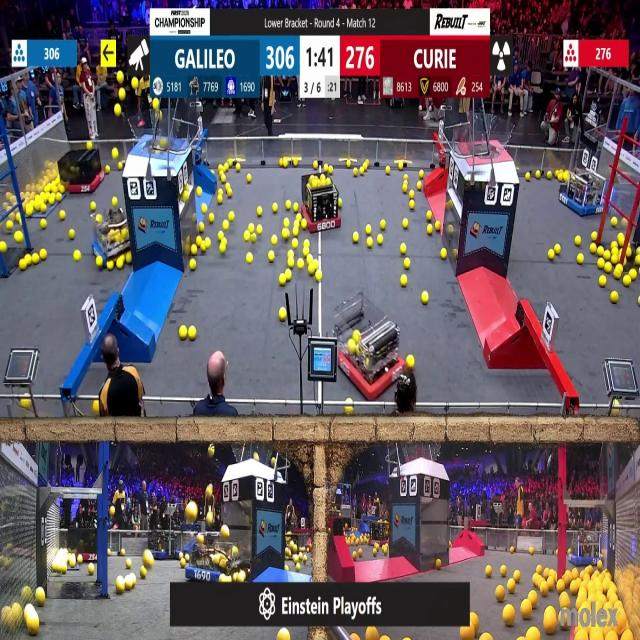ball_airborne: (186, 503, 197, 521), (460, 626, 470, 639), (206, 485, 214, 499), (206, 514, 214, 527), (220, 526, 228, 538), (132, 77, 140, 88), (114, 104, 121, 116), (116, 72, 123, 84), (161, 138, 168, 149), (152, 99, 158, 111), (118, 90, 124, 102), (198, 533, 205, 543), (209, 447, 215, 458), (110, 506, 116, 516), (88, 142, 94, 151), (159, 112, 165, 119)
ball_ground: (543, 612, 555, 637), (502, 605, 514, 626), (28, 616, 40, 636), (522, 602, 532, 619), (36, 589, 45, 607), (470, 614, 480, 630), (496, 586, 505, 602), (119, 578, 128, 594), (144, 553, 154, 567), (560, 594, 569, 609), (527, 629, 539, 640), (126, 580, 136, 592), (236, 570, 246, 582), (529, 592, 538, 605), (279, 308, 287, 322), (278, 630, 290, 639), (93, 399, 100, 414), (408, 355, 416, 368), (187, 326, 195, 339), (506, 581, 514, 594), (22, 397, 31, 408), (594, 260, 602, 272), (604, 262, 612, 274), (614, 268, 622, 280), (180, 326, 187, 339), (18, 261, 26, 272), (14, 233, 22, 244), (115, 260, 123, 271), (515, 569, 522, 581), (619, 235, 626, 247), (282, 230, 290, 240), (630, 270, 638, 280), (598, 248, 606, 258), (599, 276, 606, 287), (610, 291, 617, 302), (219, 243, 226, 254), (269, 251, 276, 262), (96, 256, 103, 267), (624, 276, 631, 287), (188, 261, 195, 272), (74, 250, 81, 261), (126, 253, 133, 264), (499, 565, 506, 576), (140, 566, 147, 577), (27, 206, 34, 217), (422, 291, 428, 303), (400, 275, 406, 287), (442, 248, 448, 260), (403, 259, 409, 271), (285, 270, 291, 282), (346, 408, 354, 417), (0, 242, 6, 254), (218, 573, 226, 582), (556, 172, 564, 181), (246, 252, 253, 262), (279, 276, 286, 286), (189, 246, 196, 256), (32, 254, 39, 264), (590, 244, 597, 254), (302, 219, 309, 229), (111, 148, 118, 158), (285, 201, 292, 211), (69, 557, 76, 567), (26, 255, 33, 265), (316, 271, 322, 282), (435, 559, 441, 570), (400, 244, 406, 255), (40, 249, 46, 260), (353, 233, 359, 244), (309, 266, 315, 277), (292, 227, 298, 238), (244, 233, 251, 242), (205, 239, 212, 248), (577, 254, 583, 264), (381, 220, 387, 230), (292, 239, 298, 249), (255, 224, 261, 234), (366, 238, 372, 248), (402, 218, 408, 228), (556, 245, 562, 255), (90, 564, 96, 574), (108, 262, 114, 272), (574, 236, 580, 246), (378, 236, 384, 246), (365, 224, 371, 234), (222, 220, 228, 230), (297, 260, 303, 270), (287, 258, 293, 268), (272, 236, 278, 246), (547, 250, 553, 260), (6, 220, 12, 230), (228, 212, 234, 222), (182, 190, 188, 200), (611, 253, 617, 263), (428, 223, 433, 234), (487, 566, 492, 577), (40, 219, 46, 228), (592, 233, 598, 242), (256, 207, 262, 216), (410, 201, 416, 210), (284, 218, 290, 227), (127, 560, 133, 569), (434, 221, 440, 230), (236, 164, 242, 173), (220, 174, 226, 183), (611, 242, 617, 251), (201, 244, 207, 253), (293, 204, 299, 213), (40, 204, 46, 213), (61, 210, 66, 220), (92, 202, 97, 212), (112, 198, 117, 208), (70, 228, 75, 238), (611, 216, 616, 226), (402, 182, 407, 192), (427, 211, 432, 221), (419, 171, 425, 179), (246, 175, 252, 183), (248, 224, 254, 232), (180, 560, 186, 568), (308, 255, 314, 263), (524, 173, 530, 181), (546, 172, 552, 180), (57, 192, 63, 200), (60, 184, 66, 192), (218, 233, 223, 242), (251, 234, 256, 243), (273, 204, 278, 213), (200, 222, 205, 231), (535, 171, 540, 180), (304, 247, 309, 256), (195, 186, 200, 195), (97, 214, 102, 223), (195, 237, 200, 246), (226, 189, 232, 196), (288, 250, 294, 257), (346, 162, 352, 169), (217, 187, 223, 194), (511, 545, 517, 552), (305, 240, 310, 248), (410, 190, 415, 198), (353, 168, 358, 176), (203, 205, 208, 213), (295, 563, 300, 571), (536, 565, 541, 573), (386, 168, 391, 175), (105, 167, 110, 174), (359, 169, 364, 176), (529, 546, 534, 553), (295, 214, 300, 221), (398, 165, 403, 172), (313, 163, 318, 170), (284, 565, 289, 572), (363, 164, 368, 171), (418, 182, 422, 190), (210, 214, 214, 222), (120, 160, 124, 168), (293, 159, 297, 167), (636, 255, 640, 263), (372, 550, 376, 558), (636, 296, 640, 304), (15, 214, 19, 222), (328, 167, 332, 175), (339, 200, 343, 208), (108, 550, 112, 557), (218, 195, 222, 202), (120, 550, 124, 557), (284, 162, 288, 169), (403, 173, 407, 180), (224, 183, 228, 190), (218, 165, 222, 171), (184, 556, 188, 562), (353, 554, 356, 561)
goal: (459, 118, 516, 158), (128, 116, 187, 151)
robot_blue: (189, 532, 245, 586), (91, 209, 133, 263), (559, 173, 605, 218), (568, 530, 600, 566), (146, 530, 171, 558)
robot_red: (336, 306, 401, 402), (302, 173, 341, 230), (60, 145, 104, 194), (365, 517, 391, 546)
